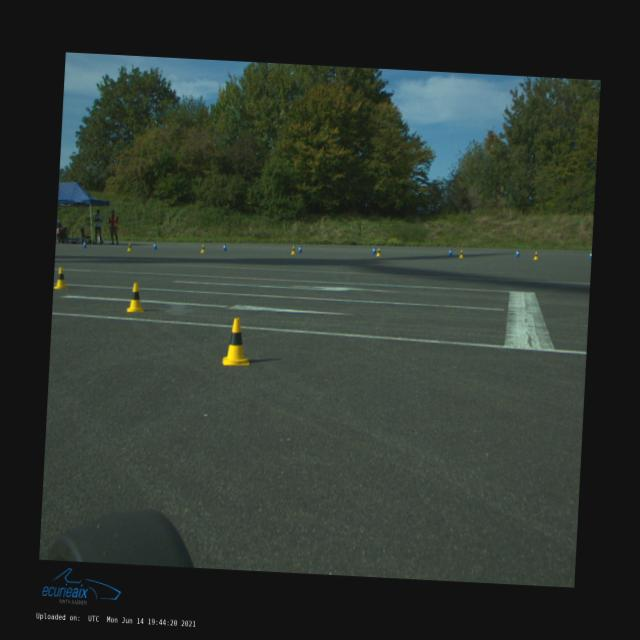blue_cone: (152, 242, 158, 250), (448, 248, 454, 255), (515, 249, 520, 257), (222, 243, 227, 251), (82, 240, 87, 248), (588, 251, 592, 259), (372, 246, 376, 254), (298, 245, 302, 252)
yellow_cone: (222, 316, 252, 366), (128, 283, 146, 313), (54, 267, 70, 290), (127, 242, 133, 252), (533, 251, 539, 260), (200, 244, 206, 253), (376, 248, 381, 257), (459, 250, 464, 258), (291, 246, 296, 254)
